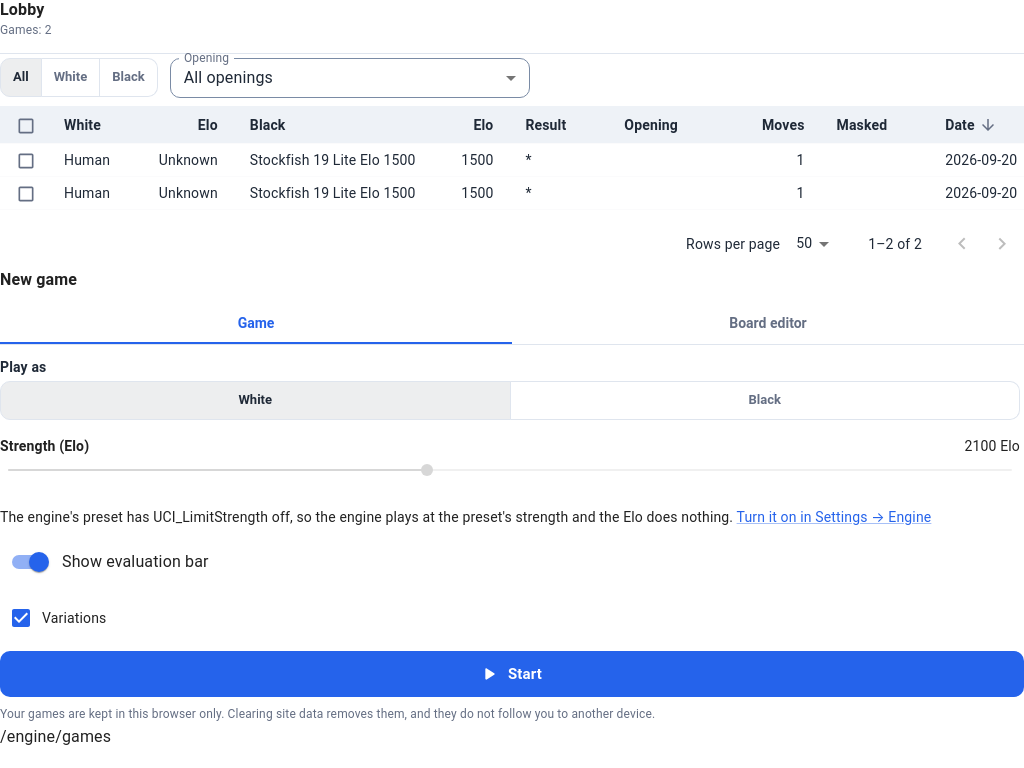
Test: Lobby — the list › deletes the ticked games only once asked
Click the checkbox named "Pick the game Human – Stockfish 19 Lite Elo 1500 of 2026-09-" at x=26, y=194, box top-left (16, 184), bottom-right (36, 204)
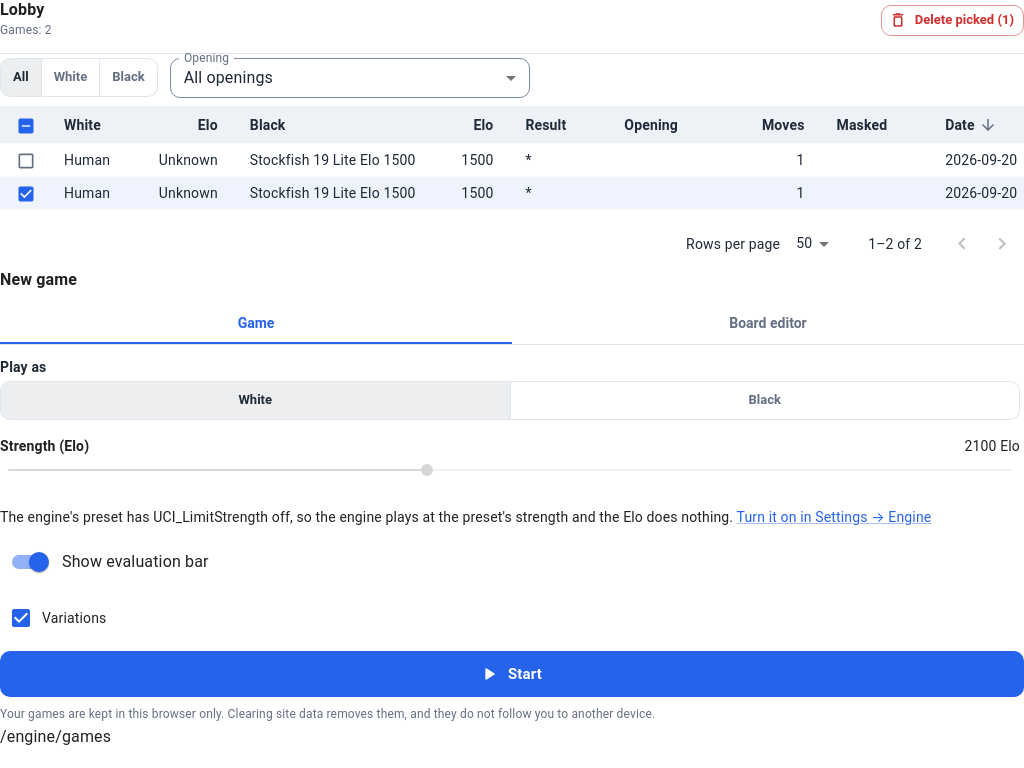
Click the checkbox named "Pick the game Human – Stockfish 19 Lite Elo 1500 of 2026-09-" at x=26, y=161, box top-left (16, 151), bottom-right (36, 171)
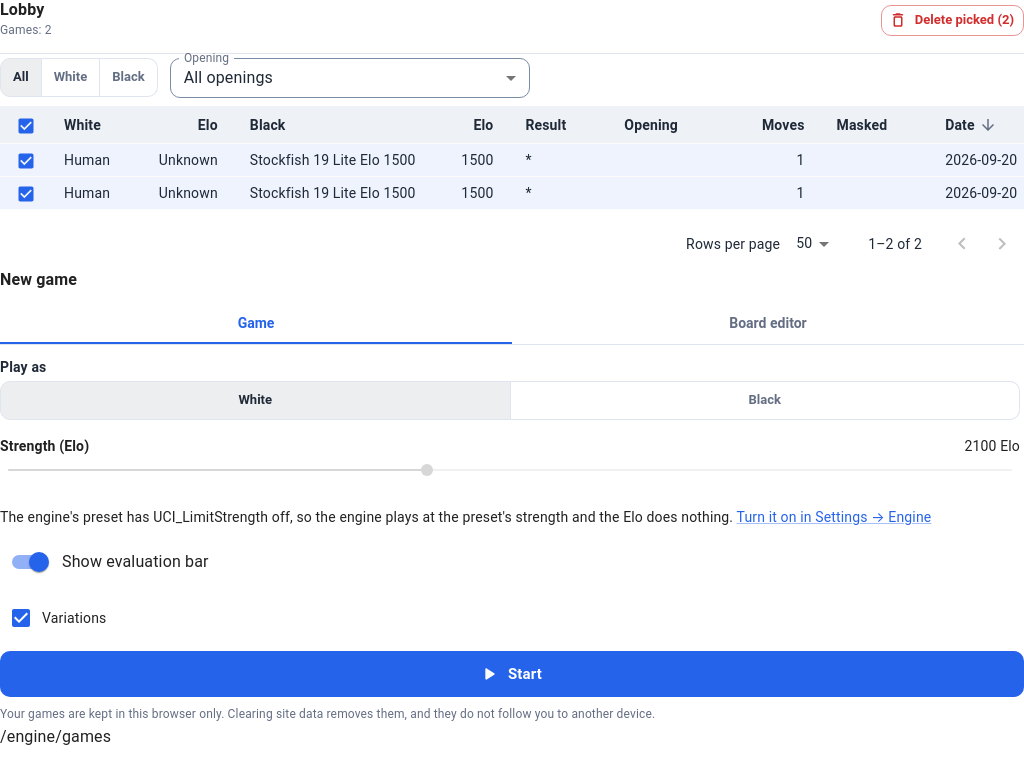
Expected: the button with test id "played-games-delete-picked" reads "Delete picked (2)"
Click the button with test id "played-games-delete-picked" at x=952, y=20, box top-left (881, 5), bottom-right (1023, 36)
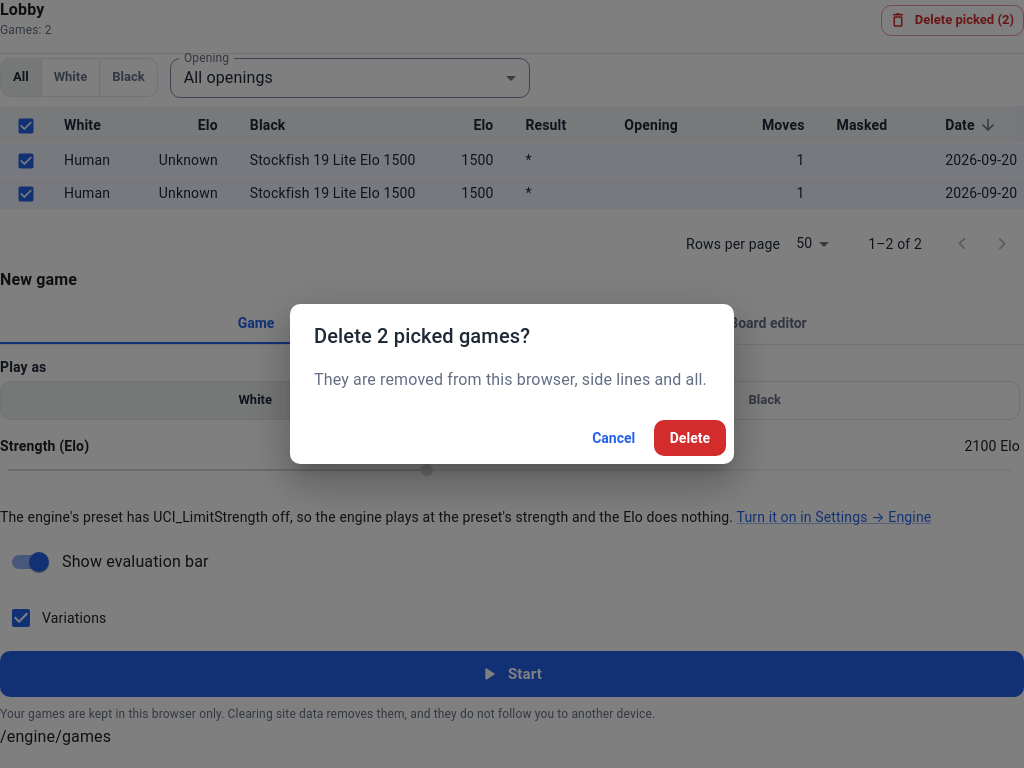
Expected: the element with test id "played-games-delete-dialog" shows "Delete 2 picked games?", top-left (314, 324), bottom-right (530, 348)
Click the button with test id "played-games-delete-confirm" at x=690, y=438, box top-left (654, 420), bottom-right (726, 456)
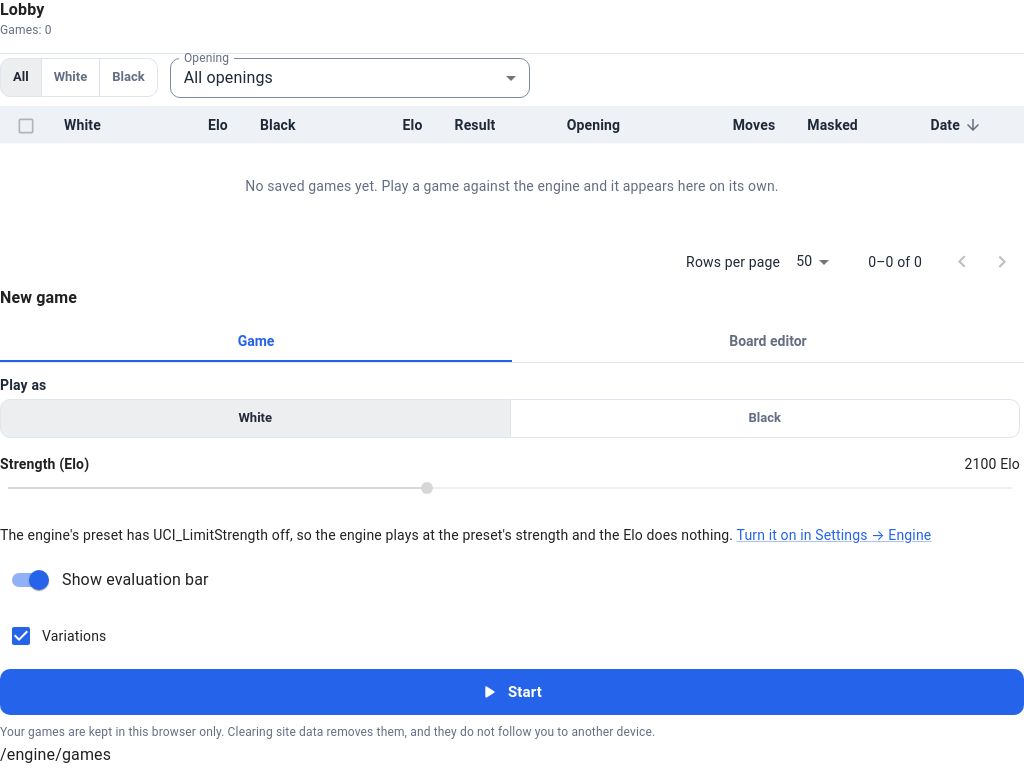
Expected: the row with test id "played-games-empty" is shown, top-left (0, 144), bottom-right (1023, 228)
